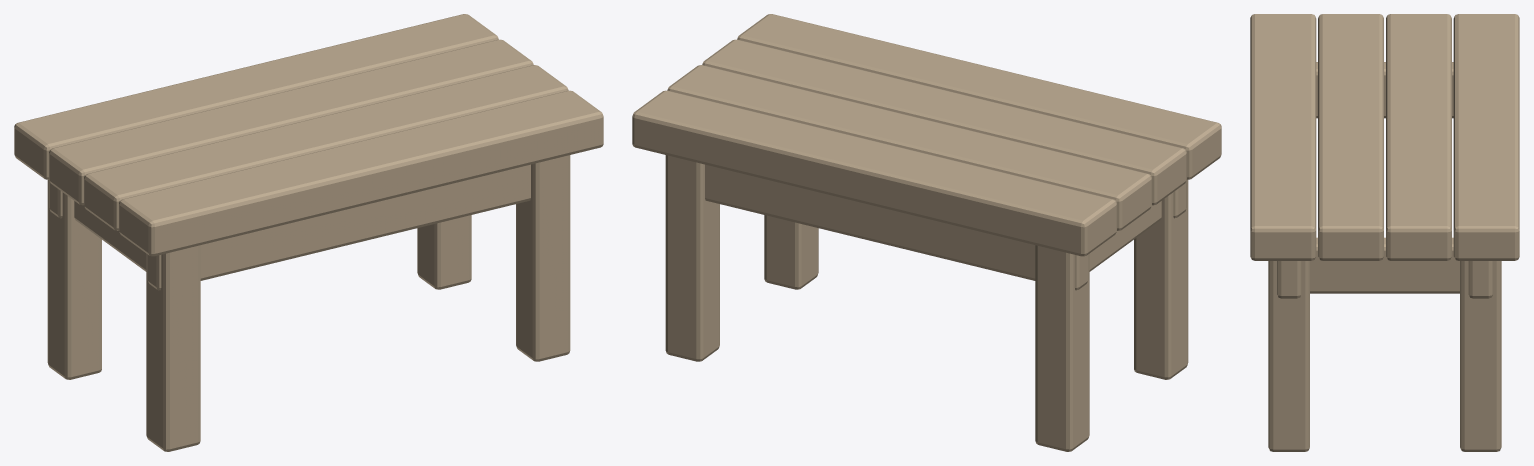
The model's file is table-0-lod0.glb.
The picture shows the model from 3 angles, left to right: view 1: azimuth 30°, elevation 25°; view 2: azimuth 150°, elevation 25°; view 3: azimuth 270°, elevation 25°; orthographic projection. The views are drawn at different scales.
Parts seen in each view (by area): view 1: Table plank.003, Table plank, Table plank.001, Table plank.002, Table apron.001, Table leg.001, Table leg.003, Table leg, Table leg.002, Table apron.002; view 2: Table plank, Table plank.002, Table plank.003, Table plank.001, Table apron, Table leg, Table leg.002, Table leg.001, Table leg.003, Table apron.002; view 3: Table plank, Table plank.003, Table plank.001, Table plank.002, Table leg.002, Table leg.003, Table apron.003, Table apron, Table apron.001, Table apron.002.
Part boxes in pixels (bbox=[...]): Table plank.003: bbox=[119, 90, 603, 256]; Table plank: bbox=[14, 14, 498, 179]; Table plank.001: bbox=[49, 39, 533, 205]; Table plank.002: bbox=[84, 65, 568, 230]; Table apron.001: bbox=[147, 164, 530, 290]; Table leg.001: bbox=[146, 245, 200, 451]; Table leg.003: bbox=[516, 155, 570, 361]; Table leg: bbox=[47, 180, 101, 379]; Table leg.002: bbox=[417, 215, 471, 289]; Table apron.002: bbox=[74, 201, 146, 271]; Table plank: bbox=[632, 90, 1116, 256]; Table plank.002: bbox=[702, 39, 1186, 205]; Table plank.003: bbox=[737, 14, 1221, 179]; Table plank.001: bbox=[667, 65, 1151, 230]; Table apron: bbox=[705, 164, 1088, 290]; Table leg: bbox=[1035, 245, 1089, 451]; Table leg.002: bbox=[665, 155, 719, 361]; Table leg.001: bbox=[1134, 180, 1188, 379]; Table leg.003: bbox=[764, 215, 818, 289]; Table apron.002: bbox=[1089, 201, 1161, 271]; Table plank: bbox=[1453, 14, 1519, 260]; Table plank.003: bbox=[1250, 14, 1316, 260]; Table plank.001: bbox=[1386, 14, 1451, 260]; Table plank.002: bbox=[1318, 14, 1383, 260]; Table leg.002: bbox=[1460, 261, 1501, 451]; Table leg.003: bbox=[1268, 261, 1309, 451]; Table apron.003: bbox=[1310, 237, 1459, 293]; Table apron: bbox=[1468, 261, 1492, 298]; Table apron.001: bbox=[1277, 261, 1301, 298]; Table apron.002: bbox=[1316, 62, 1453, 118].
Size of the model in its own units: 1.6 by 0.82 by 0.8445.
